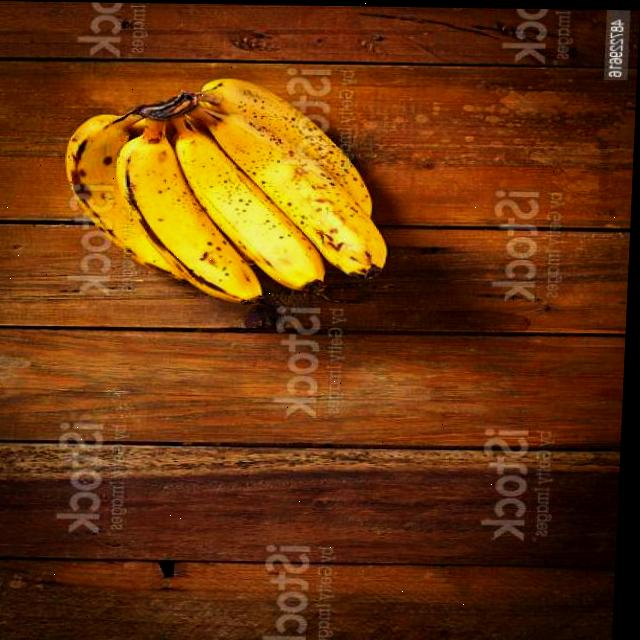banana: (52, 70, 400, 312)
